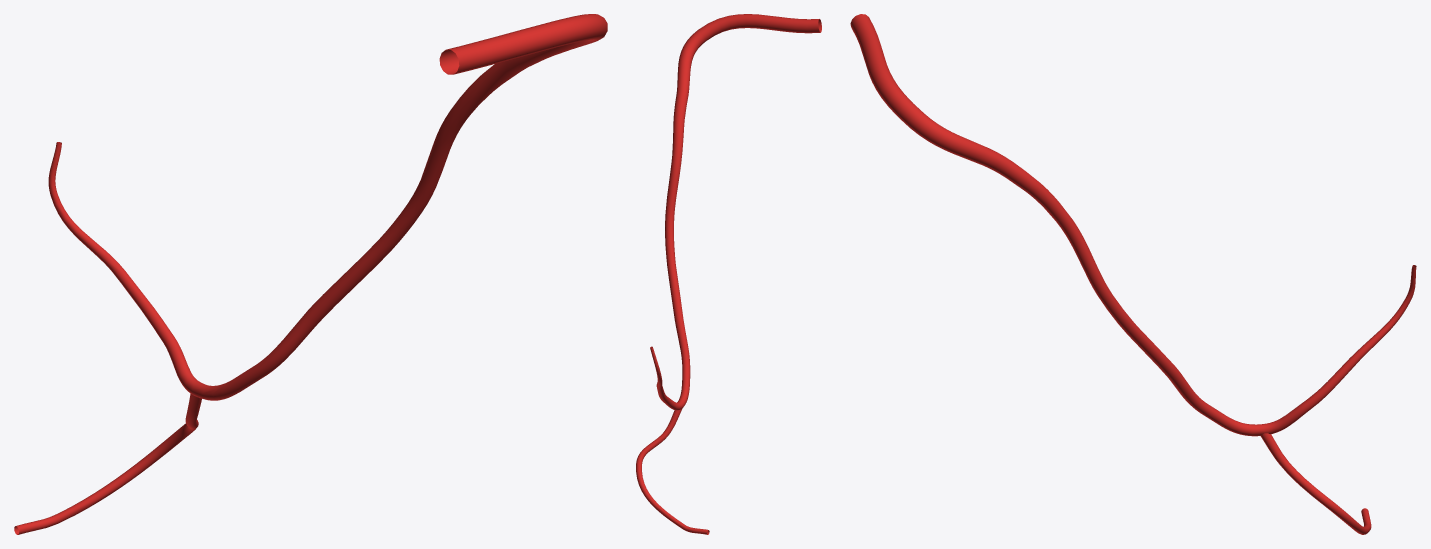
Rendered from circulatorio-posterior-temporal-branch-l.glb.
3 views of the same model, side by side, from view 1: azimuth 30°, elevation 25°; view 2: azimuth 150°, elevation 25°; view 3: azimuth 270°, elevation 25° (orthographic). The views are drawn at different scales.
Visible parts, largest first — view 1: Posterior temporal branch.l; view 2: Posterior temporal branch.l; view 3: Posterior temporal branch.l.
Part boxes in pixels (bbox=[...]): Posterior temporal branch.l: bbox=[14, 14, 607, 534]; Posterior temporal branch.l: bbox=[636, 14, 821, 534]; Posterior temporal branch.l: bbox=[850, 14, 1416, 534].
Bounding box in the file's own units: 0.0195 × 0.0409 × 0.0384.
